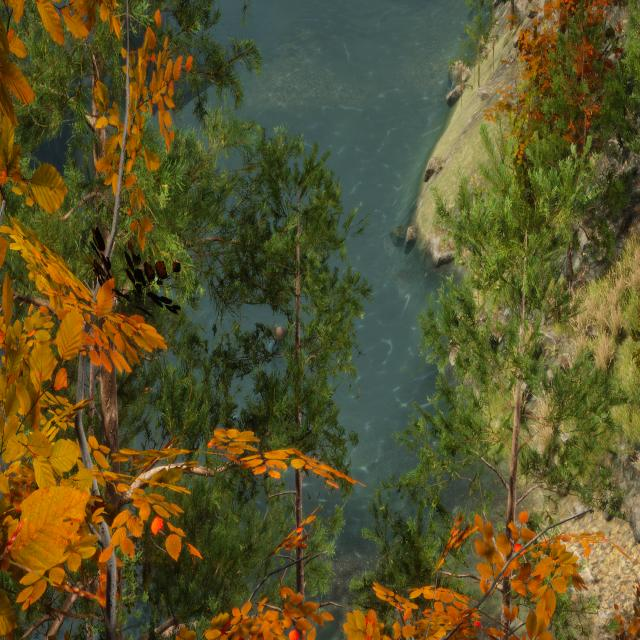Human: (263, 322, 289, 397)
